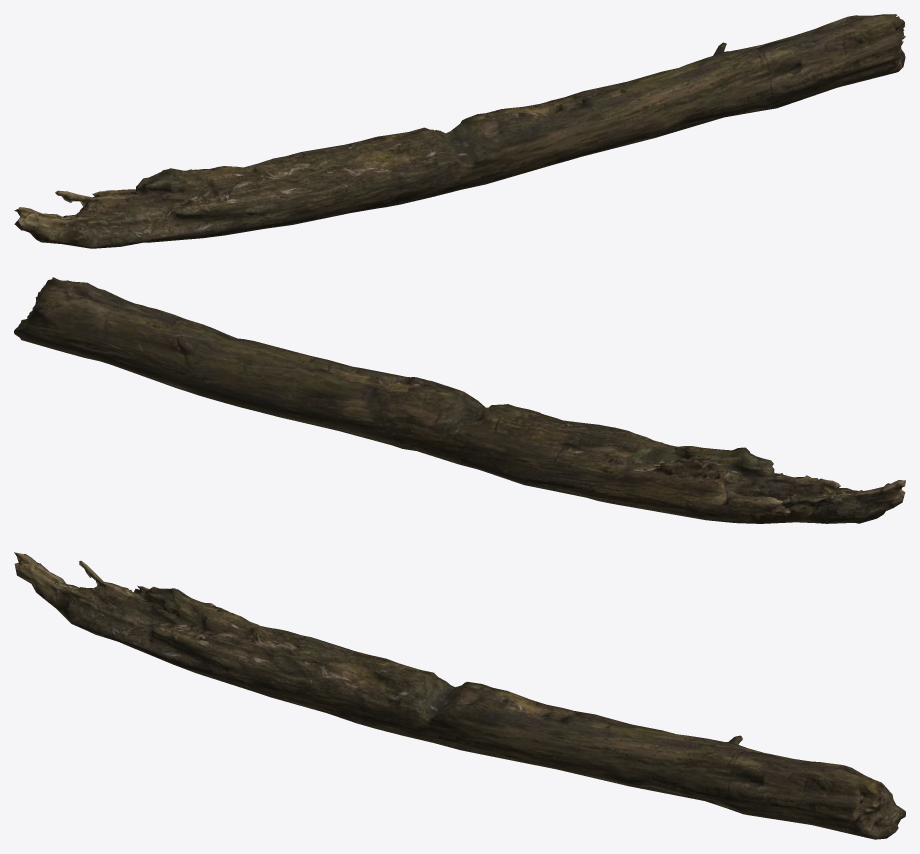
The model's file is dead_tree_trunk.glb.
3 views of the same model, one above another, from view 1: azimuth 30°, elevation 25°; view 2: azimuth 150°, elevation 25°; view 3: azimuth 330°, elevation 25° (orthographic).
Visible parts, largest first — view 1: dead_tree_trunk; view 2: dead_tree_trunk; view 3: dead_tree_trunk.
Boxes of the visible parts, box(x1,y1,x2,y2) form: dead_tree_trunk: box(14, 14, 905, 248); dead_tree_trunk: box(14, 277, 905, 523); dead_tree_trunk: box(14, 552, 905, 839).
Size of the model in its own units: 3.05 by 0.2875 by 0.2773.
1 material, 1 textured.
